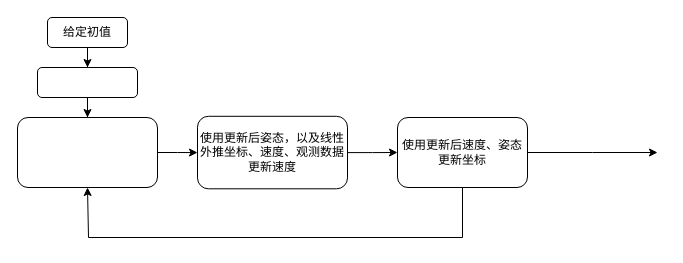
Image size: 683x263. Some labels were removed from this diagram. Here are the shapes that lost their labels. From the top down, the centre of each, then its label:
At pixel 87 82: "数据输入".
At pixel 87 152: "使用上一历元坐标、速度和本轮观测数据进行姿态更新".
